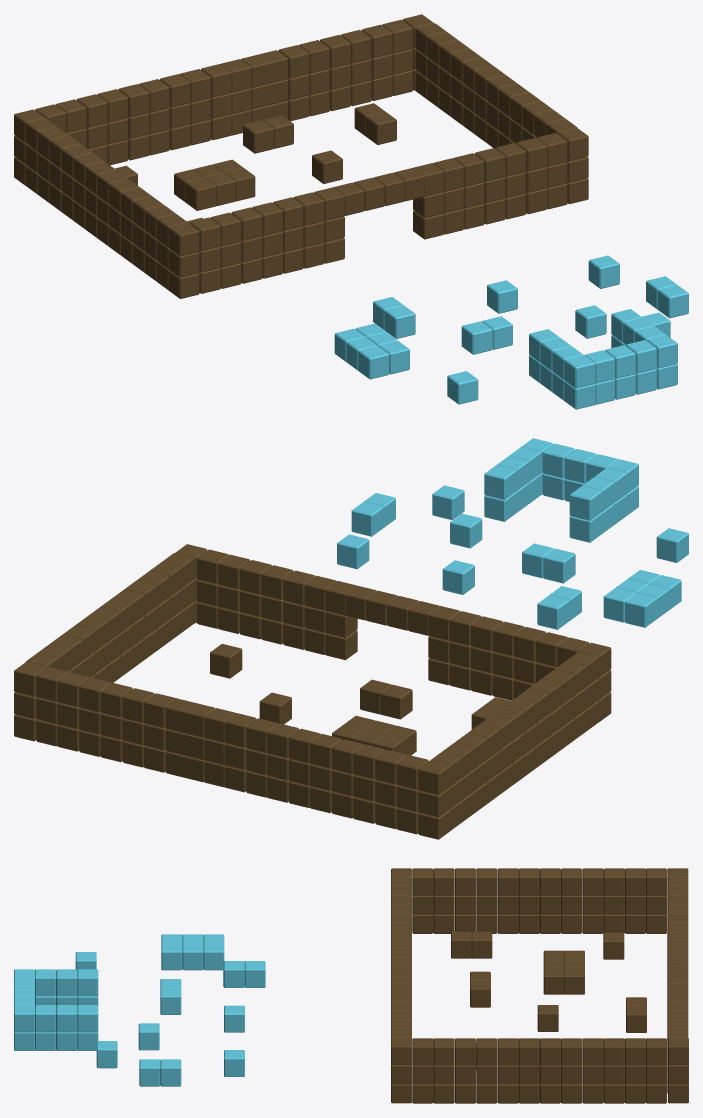
File: FaseTesteFacil1.fbx
3 views of the same model, one above another, from view 1: azimuth 30°, elevation 25°; view 2: azimuth 150°, elevation 25°; view 3: azimuth 270°, elevation 25° (orthographic). The views are drawn at different scales.
Visible parts, largest first — view 1: madeira100 (×15), madeira98 (×14), madeira161 (×5), madeira99 (×2), madeira101 (×2), aliado34, aliado42, aliado37, aliado36, aliado32, aliado56, aliado67 (+19 smaller); view 2: madeira100 (×15), madeira98 (×14), madeira99 (×2), madeira101 (×2), aliado34, aliado41, aliado32, aliado35, aliado37, madeira160, madeira162, aliado36 (+21 smaller); view 3: madeira161 (×4), madeira132 (×2), madeira141 (×2), madeira152 (×2), madeira139 (×2), madeira124 (×2), madeira126 (×2), madeira148 (×2), madeira151 (×2), madeira162 (×2), madeira147 (×2), madeira157 (×2) (+55 smaller).
Part boxes in pixels (x1,y1,x2,y2): madeira100 (×15): [56, 19, 567, 256]; madeira98 (×14): [76, 24, 588, 250]; madeira161 (×5): [185, 111, 396, 210]; madeira99 (×2): [168, 210, 443, 298]; madeira101 (×2): [168, 192, 443, 277]; aliado34: [575, 305, 606, 338]; aliado42: [384, 305, 415, 338]; aliado37: [461, 321, 492, 354]; aliado36: [447, 371, 478, 404]; aliado32: [588, 255, 619, 288]; aliado56: [564, 355, 595, 388]; aliado67: [358, 346, 389, 379]; madeira100 (×15): [36, 549, 567, 795]; madeira98 (×14): [14, 554, 545, 789]; madeira99 (×2): [325, 630, 450, 839]; madeira101 (×2): [325, 611, 450, 817]; aliado34: [450, 513, 482, 548]; aliado41: [537, 595, 569, 629]; aliado32: [337, 534, 369, 569]; aliado35: [432, 485, 464, 520]; aliado37: [543, 548, 575, 583]; madeira160: [210, 644, 242, 678]; madeira162: [380, 684, 412, 719]; aliado36: [656, 528, 688, 562]; madeira161 (×4): [451, 931, 646, 1032]; madeira132 (×2): [412, 868, 433, 1065]; madeira141 (×2): [582, 868, 603, 1065]; madeira152 (×2): [433, 868, 454, 1065]; madeira139 (×2): [518, 868, 539, 1065]; madeira124 (×2): [476, 868, 497, 1065]; madeira126 (×2): [497, 868, 518, 1065]; madeira148 (×2): [603, 868, 624, 1065]; madeira151 (×2): [539, 868, 560, 1065]; madeira162 (×2): [471, 931, 584, 994]; madeira147 (×2): [625, 868, 645, 1065]; madeira157 (×2): [646, 868, 666, 1065].
Size of the model in its own units: 20.03 by 3.05 by 31.97.
